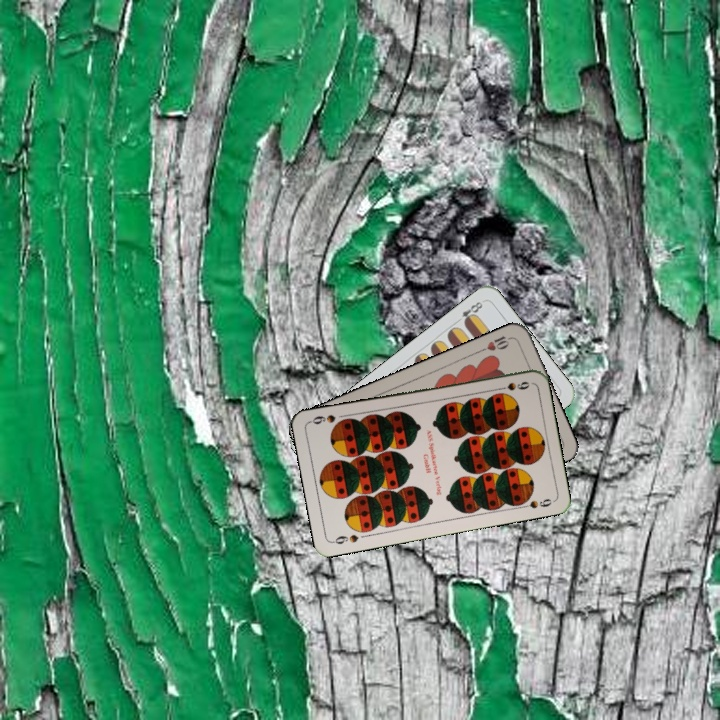E8: (451, 297, 485, 327)
H10: (476, 332, 515, 355)
S9: (492, 377, 532, 393), (329, 530, 361, 547)
